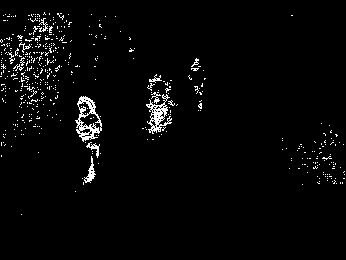person: (77, 95, 103, 186), (188, 56, 210, 113)
